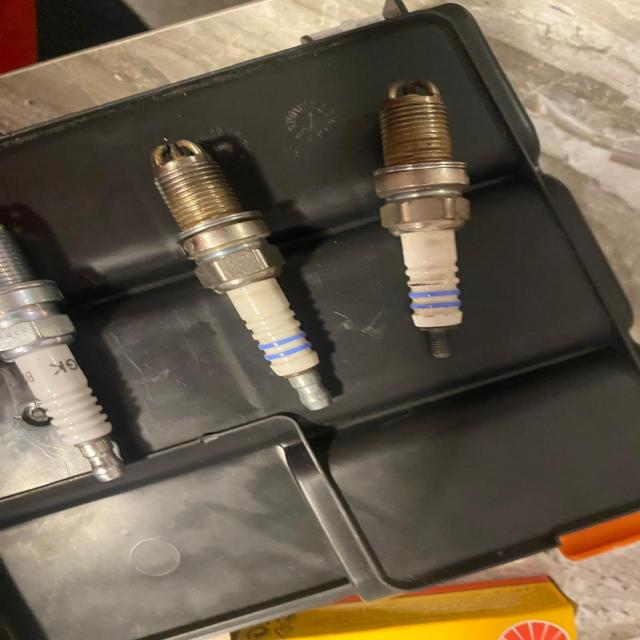spark-plug: (141, 124, 367, 432), (371, 71, 487, 366)
